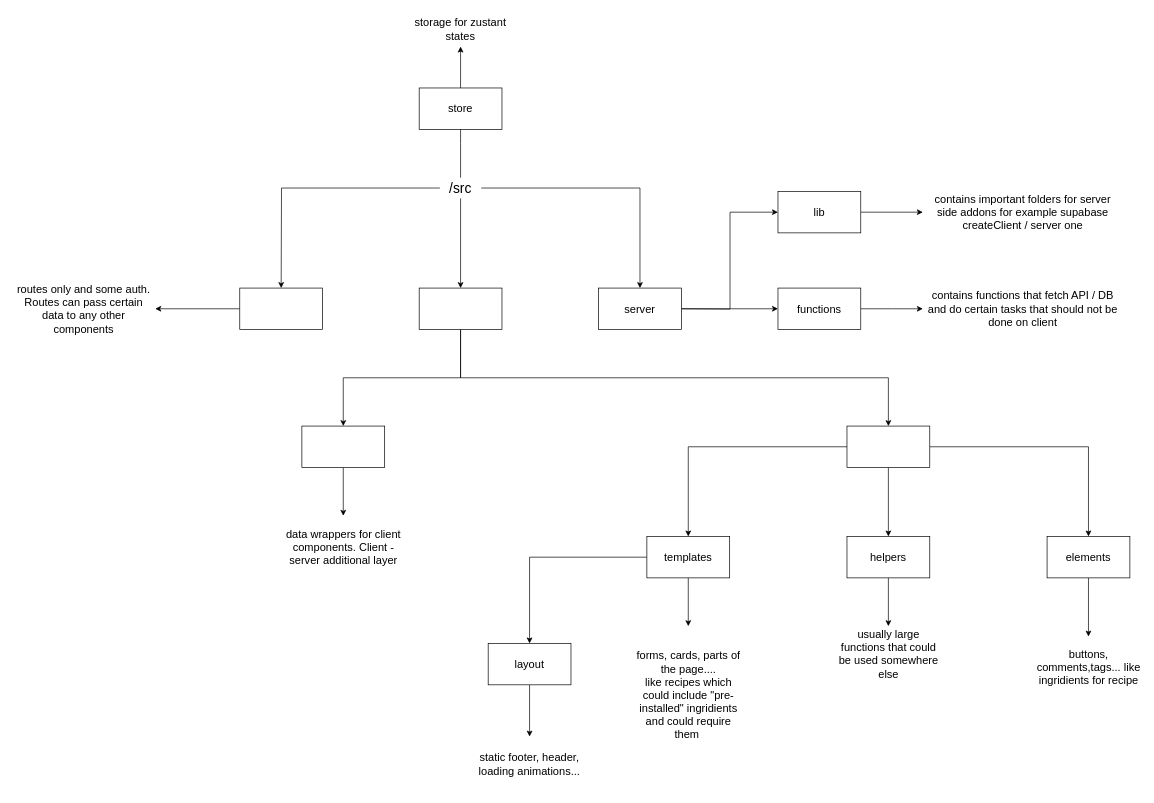
Some shapes in this 1154 by 803 pixel diagram are drawn without their labels. The shapes that lost their labels are listed below. From the top down, each one's box as (x1, y1, x2, y2) in pixels, then its label:
(239, 287, 323, 329): app
(418, 287, 502, 329): components
(301, 425, 385, 467): bridge
(846, 425, 930, 467): client
